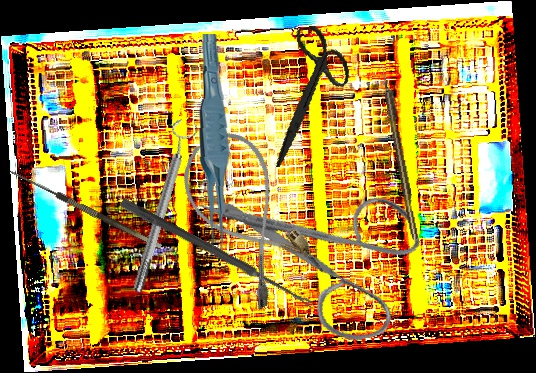Cannula: (167, 121, 329, 313)
Fixation Ring: (123, 117, 201, 296)
Hook Surgical: (4, 167, 163, 258), (379, 63, 420, 241)
Iris Scissors: (195, 141, 441, 372), (247, 20, 366, 168)
Surgical Spoon: (119, 197, 315, 310)
Tissue Forceps: (193, 33, 234, 252)
